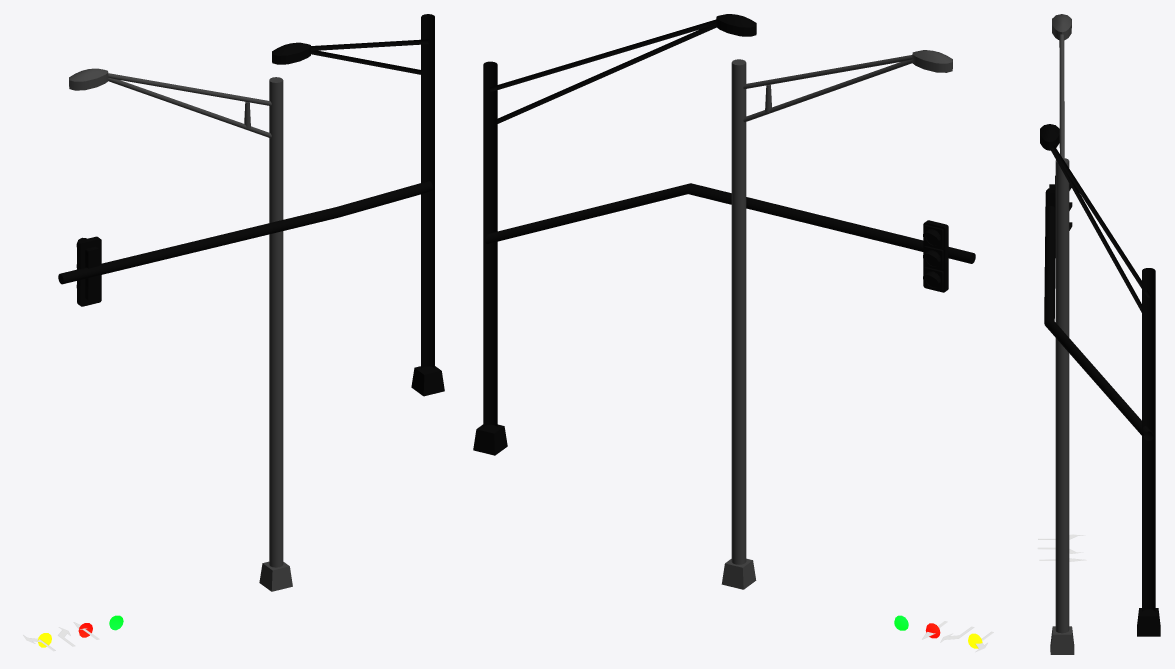
Rendered from LightTem.glb.
3 renders of one model, left to right at view 1: azimuth 30°, elevation 25°; view 2: azimuth 150°, elevation 25°; view 3: azimuth 270°, elevation 25°, orthographic. The views are drawn at different scales.
Visible parts, largest first — view 1: LIGHTBODY, LIGHTPOLE; view 2: LIGHTBODY, LIGHTPOLE; view 3: LIGHTBODY, LIGHTPOLE.
Part boxes in pixels (x1,y1,x2,y2): LIGHTBODY: (58, 14, 444, 396); LIGHTPOLE: (69, 68, 292, 591); LIGHTBODY: (473, 14, 975, 455); LIGHTPOLE: (721, 50, 952, 589); LIGHTBODY: (1040, 124, 1160, 636); LIGHTPOLE: (1050, 14, 1074, 654).
Bounding box in the file's own units: 4.61 × 5.49 × 1.12.
Materials: 9 (3 with a texture image).
